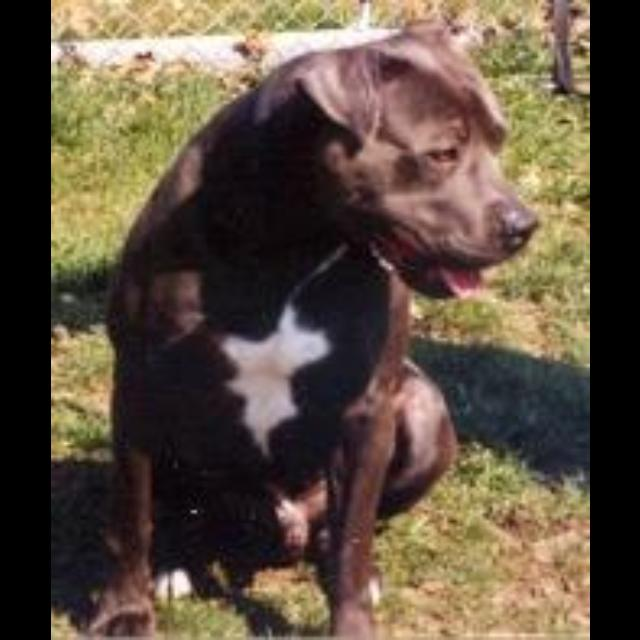amstaff: (80, 15, 538, 638)
